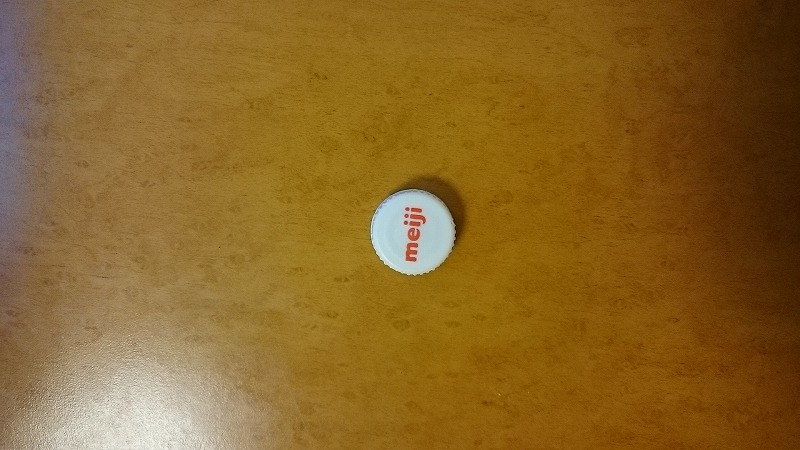B: (363, 179, 468, 287)
